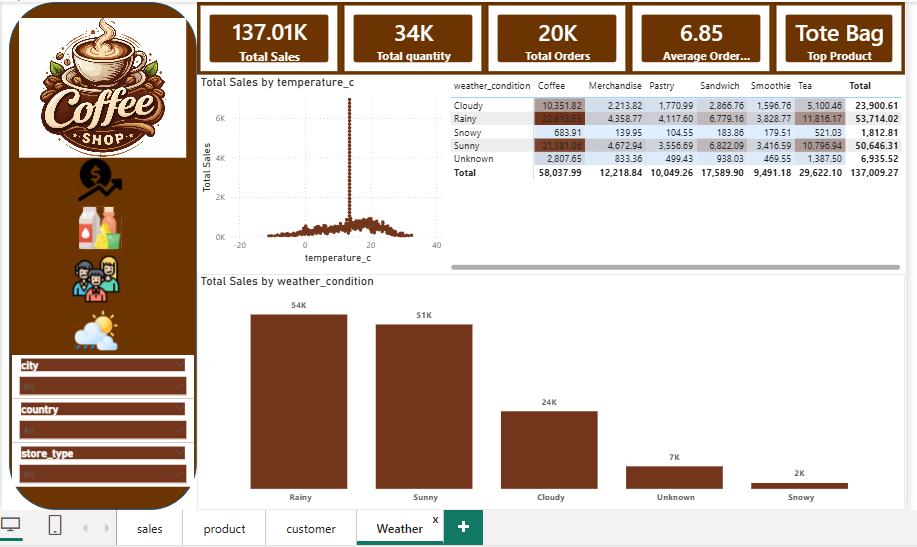

This screenshot's page, from the dashboard's own definition file:
{"tool":"powerbi","page":{"name":"Weather","canvas":[1280,720],"ordinal":3},"visuals":[{"type":"shape","box":[9.9,0,266.5,720],"z":0},{"type":"image","box":[24.1,22.7,236.7,198.4],"z":1000},{"type":"cardVisual","fields":{"Data":["clean_data.Total Sales"]},"box":[276.4,0,204.1,103.5],"z":2000},{"type":"cardVisual","fields":{"Data":["clean_data.Total quantity"]},"box":[480.5,0,204.1,103.5],"z":3000},{"type":"cardVisual","fields":{"Data":["clean_data.Total Orders"]},"box":[684.6,0,204.1,103.5],"z":4000},{"type":"cardVisual","fields":{"Data":["clean_data.Average Order Value"]},"box":[888.7,0,204.1,103.5],"z":5000},{"type":"cardVisual","fields":{"Data":["clean_data.Top Product"]},"box":[1092.8,0,187.1,103.5],"z":6000},{"type":"clusteredColumnChart","fields":{"Y":["clean_data.Total Sales"],"Category":["clean_data.weather_condition"]},"box":[276.4,385.5,1003.5,334.5],"z":7000},{"type":"lineChart","fields":{"Y":["clean_data.Total Sales"],"Category":["clean_data.temperature_c"]},"box":[276.4,103.5,354.3,272.1],"z":8000},{"type":"pivotTable","fields":{"Rows":["clean_data.weather_condition"],"Values":["clean_data.Total Sales"],"Columns":["clean_data.product_category"]},"box":[630.7,103.5,649.1,282],"z":9000},{"type":"slicer","fields":{"Values":["clean_data.city"]},"box":[14.2,500.3,258,62.4],"z":10000},{"type":"slicer","fields":{"Values":["clean_data.country"]},"box":[14.2,562.7,258,62.4],"z":11000},{"type":"slicer","fields":{"Values":["clean_data.store_type"]},"box":[14.2,625,258,62.4],"z":12000},{"type":"actionButton","box":[49.6,215.4,178.6,70.9],"z":13000},{"type":"actionButton","box":[82.2,286.3,113.4,68],"z":14000},{"type":"actionButton","box":[95,354.3,100.6,76.5],"z":15000},{"type":"actionButton","box":[70.9,430.9,124.7,69.4],"z":16000}]}

Visuals, with their boxes on the page's 1280x720 design canvas (x1, y1, x2, y2). These are canvas units, not pixel positions in the 917x547 screenshot, which may show the page scaled, cropped or inside an application window:
shape: bbox=(10, 0, 276, 720)
image: bbox=(24, 23, 261, 221)
cardVisual - clean_data.Total Sales: bbox=(276, 0, 480, 104)
cardVisual - clean_data.Total quantity: bbox=(480, 0, 685, 104)
cardVisual - clean_data.Total Orders: bbox=(685, 0, 889, 104)
cardVisual - clean_data.Average Order Value: bbox=(889, 0, 1093, 104)
cardVisual - clean_data.Top Product: bbox=(1093, 0, 1280, 104)
clusteredColumnChart - clean_data.Total Sales x clean_data.weather_condition: bbox=(276, 386, 1280, 720)
lineChart - clean_data.Total Sales x clean_data.temperature_c: bbox=(276, 104, 631, 376)
pivotTable - clean_data.weather_condition x clean_data.Total Sales: bbox=(631, 104, 1280, 386)
slicer - clean_data.city: bbox=(14, 500, 272, 563)
slicer - clean_data.country: bbox=(14, 563, 272, 625)
slicer - clean_data.store_type: bbox=(14, 625, 272, 687)
actionButton: bbox=(50, 215, 228, 286)
actionButton: bbox=(82, 286, 196, 354)
actionButton: bbox=(95, 354, 196, 431)
actionButton: bbox=(71, 431, 196, 500)
